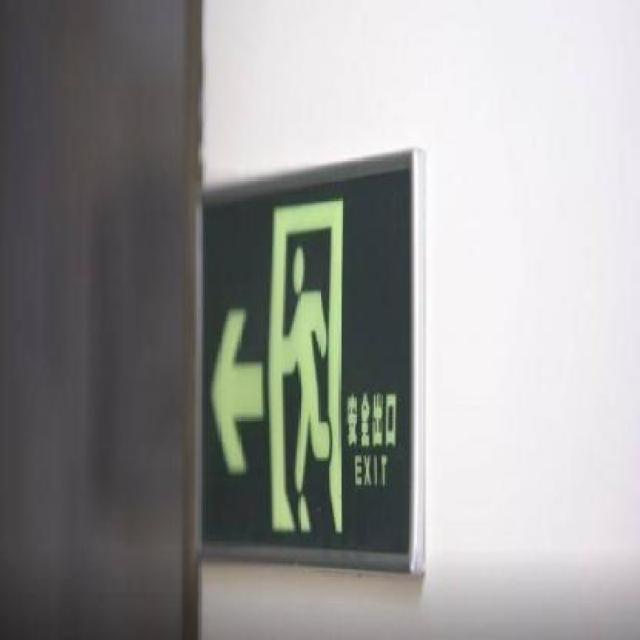exit_sign: (177, 143, 461, 585)
